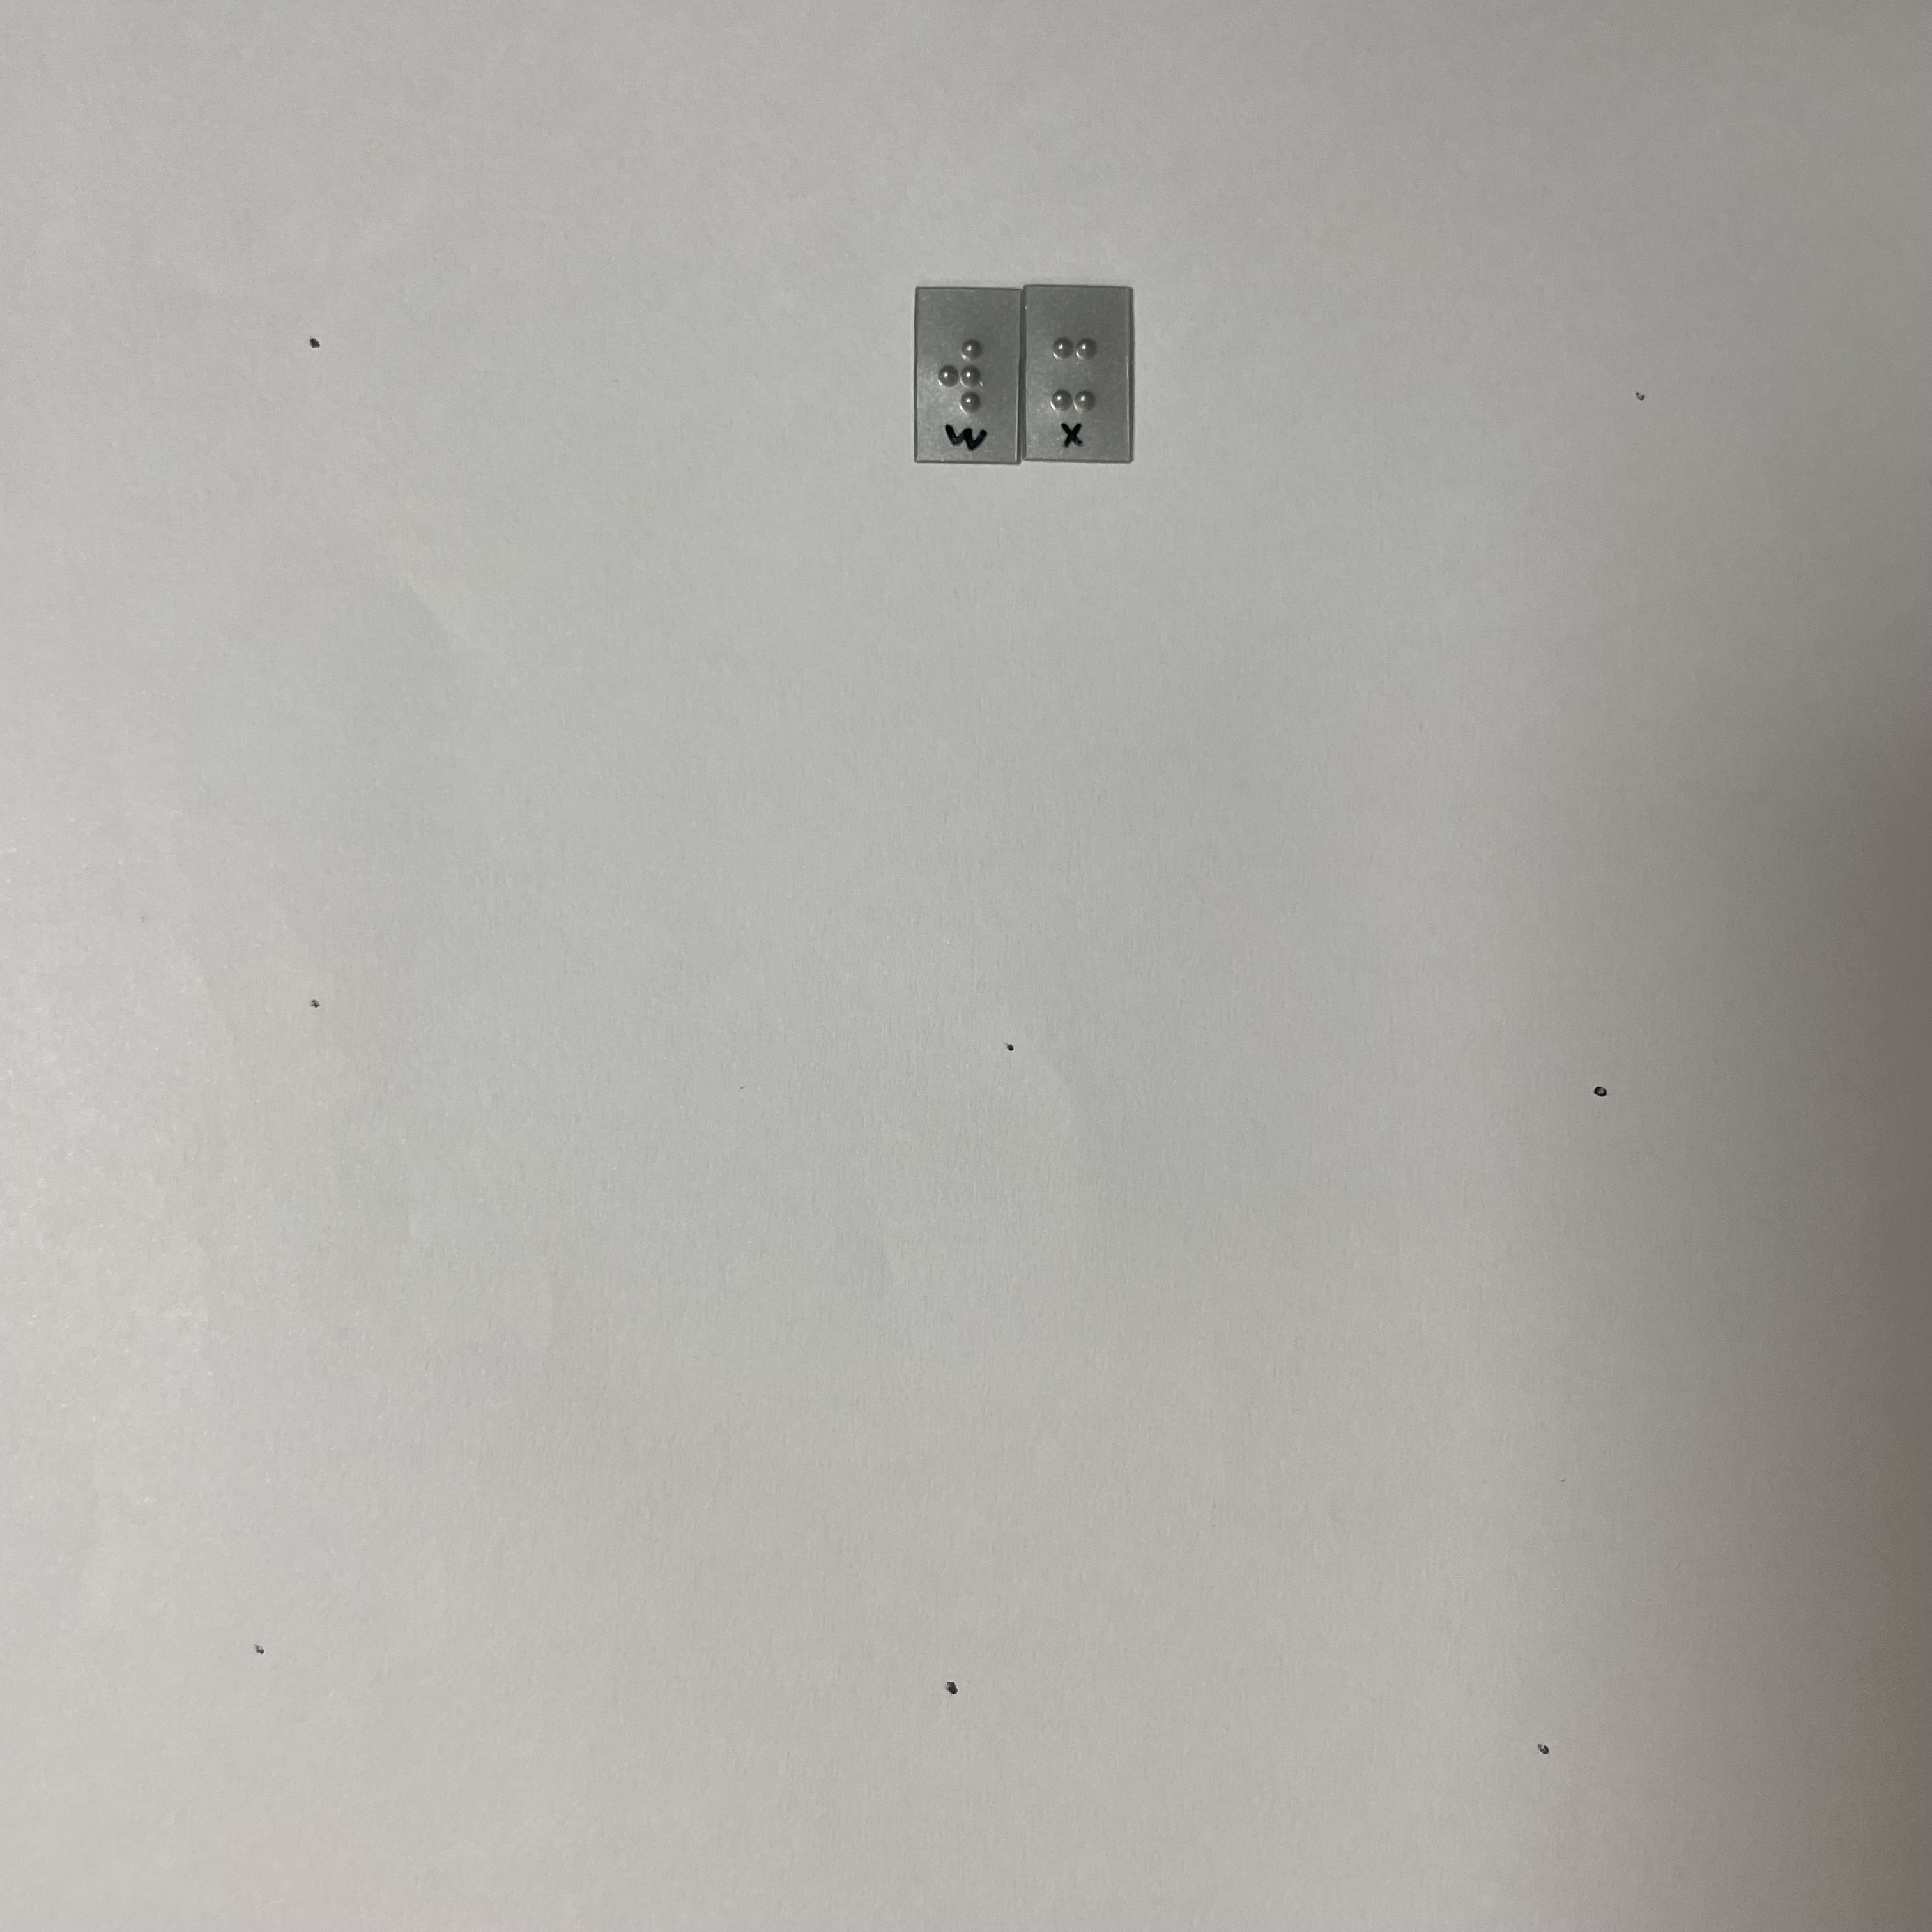w: (928, 332, 994, 422)
x: (1041, 329, 1108, 424)
